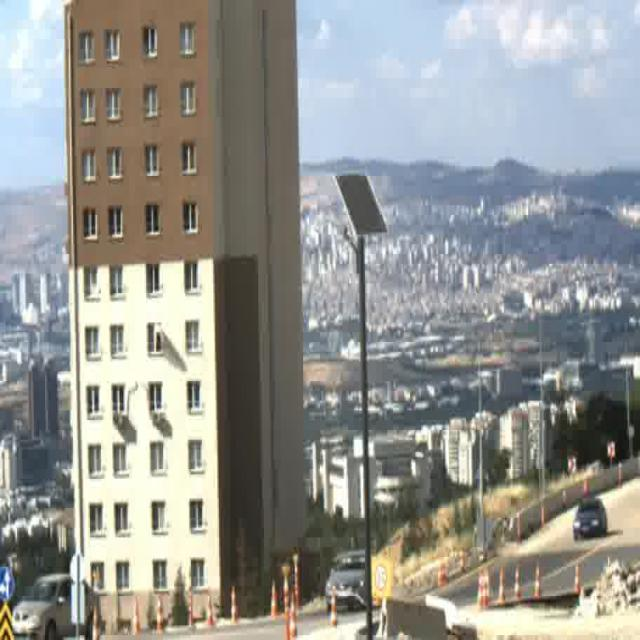Car: (14, 575, 101, 638), (327, 550, 368, 612), (574, 502, 608, 541)
